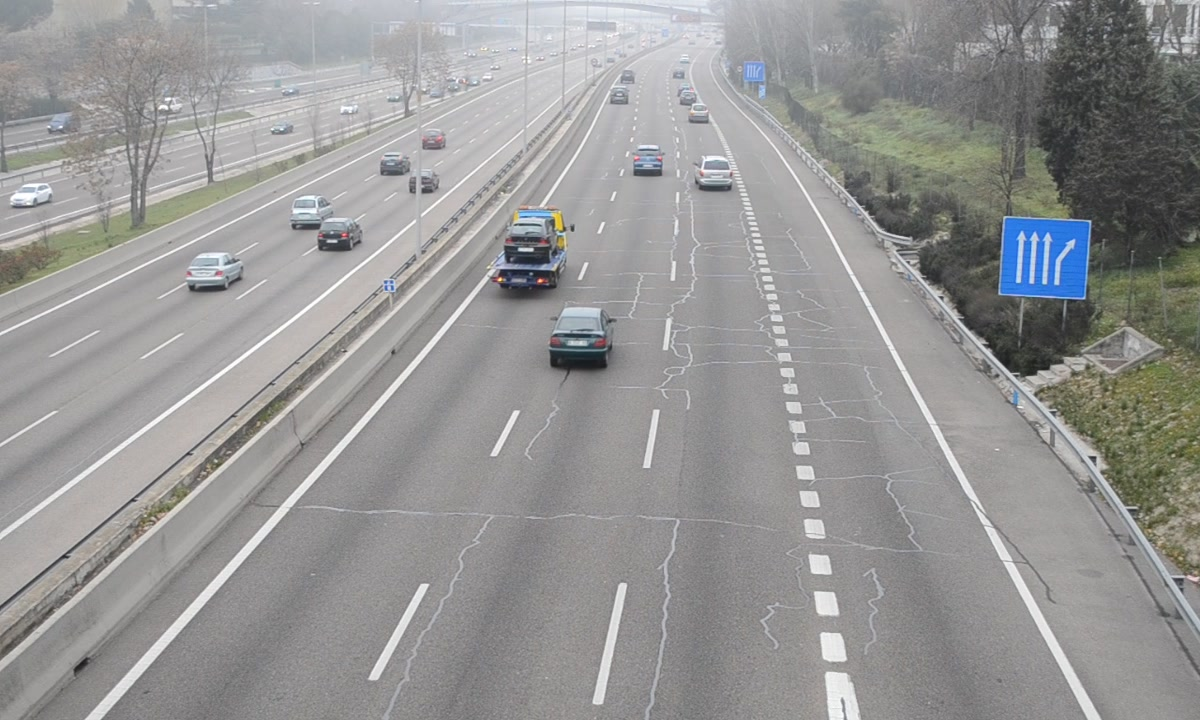car: (547, 308, 613, 362), (694, 155, 735, 190), (632, 145, 664, 174), (688, 102, 710, 124)
small-truck: (490, 207, 568, 292)
